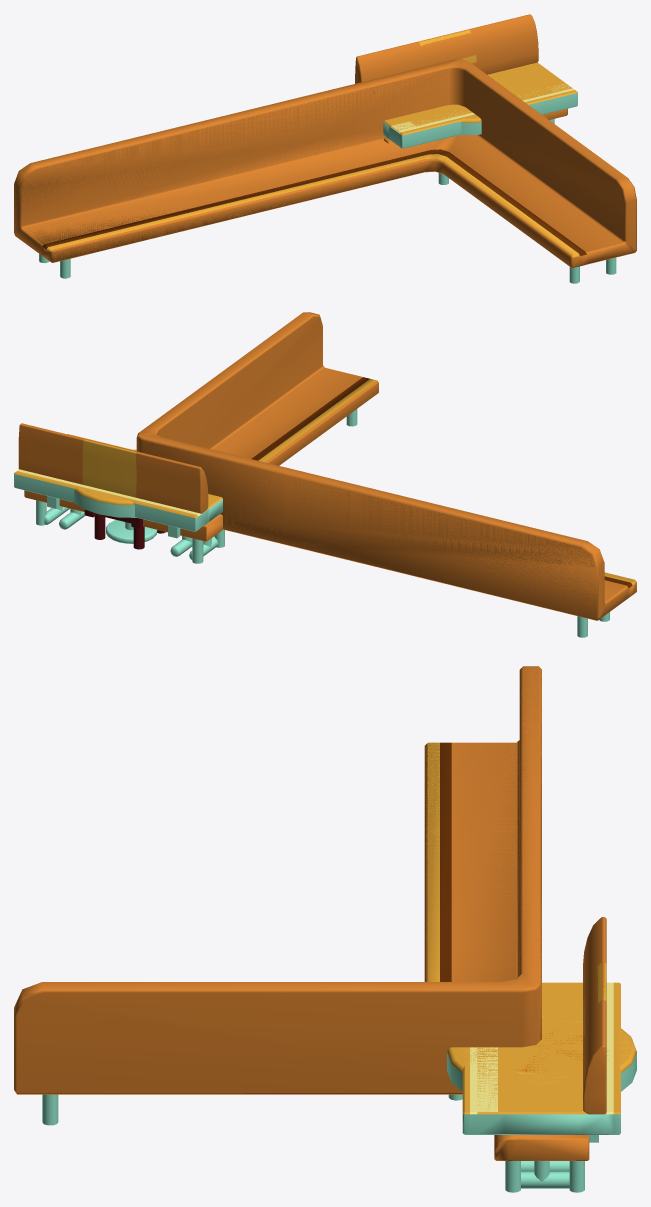
Rendered from AllLv2 (2).fbx.
The picture shows the model from 3 angles, top to bottom: view 1: azimuth 30°, elevation 25°; view 2: azimuth 150°, elevation 25°; view 3: azimuth 270°, elevation 25°; orthographic projection. The views are drawn at different scales.
Visible parts, largest first — view 1: Bench_Corner1Lv3, Bench_Corner3Lv3, Bench_Corner2Lv3, BenchLv1, Table_LongLv1, Table_ShortLv1, Table_LongLv2; view 2: Bench_Corner3Lv3, Bench_Corner2Lv3, Bench_Corner1Lv3, BenchLv1, Chair_BrownLv1, Table_LongLv2, Table_ShortLv1, Table_RoundLv1, Table_LongLv1; view 3: Bench_Corner2Lv3, Bench_Corner3Lv3, Table_LongLv2, Bench_Corner1Lv3, BenchLv1, Table_LongLv1, Table_ShortLv1, Table_RoundLv1.
Boxes of the visible parts, <box> form: Bench_Corner1Lv3: <box>16,61,633,264</box>; Bench_Corner3Lv3: <box>14,94,352,278</box>; Bench_Corner2Lv3: <box>315,59,636,283</box>; BenchLv1: <box>355,14,567,143</box>; Table_LongLv1: <box>385,62,577,148</box>; Table_ShortLv1: <box>403,67,558,128</box>; Table_LongLv2: <box>383,62,576,147</box>; Bench_Corner3Lv3: <box>287,469,636,637</box>; Bench_Corner2Lv3: <box>136,312,378,545</box>; Bench_Corner1Lv3: <box>143,368,634,620</box>; BenchLv1: <box>18,423,224,563</box>; Chair_BrownLv1: <box>82,439,165,549</box>; Table_LongLv2: <box>14,469,222,560</box>; Table_ShortLv1: <box>33,443,192,556</box>; Table_RoundLv1: <box>73,449,157,543</box>; Table_LongLv1: <box>15,434,211,551</box>; Bench_Corner2Lv3: <box>14,878,541,1125</box>; Bench_Corner3Lv3: <box>424,666,541,965</box>; Table_LongLv2: <box>464,982,620,1181</box>; Bench_Corner1Lv3: <box>424,667,541,983</box>; BenchLv1: <box>494,917,606,1192</box>; Table_LongLv1: <box>462,983,619,1188</box>; Table_ShortLv1: <box>464,996,620,1171</box>; Table_RoundLv1: <box>447,1028,636,1091</box>.
Bounding box in the file's own units: 718 × 128 × 472.
